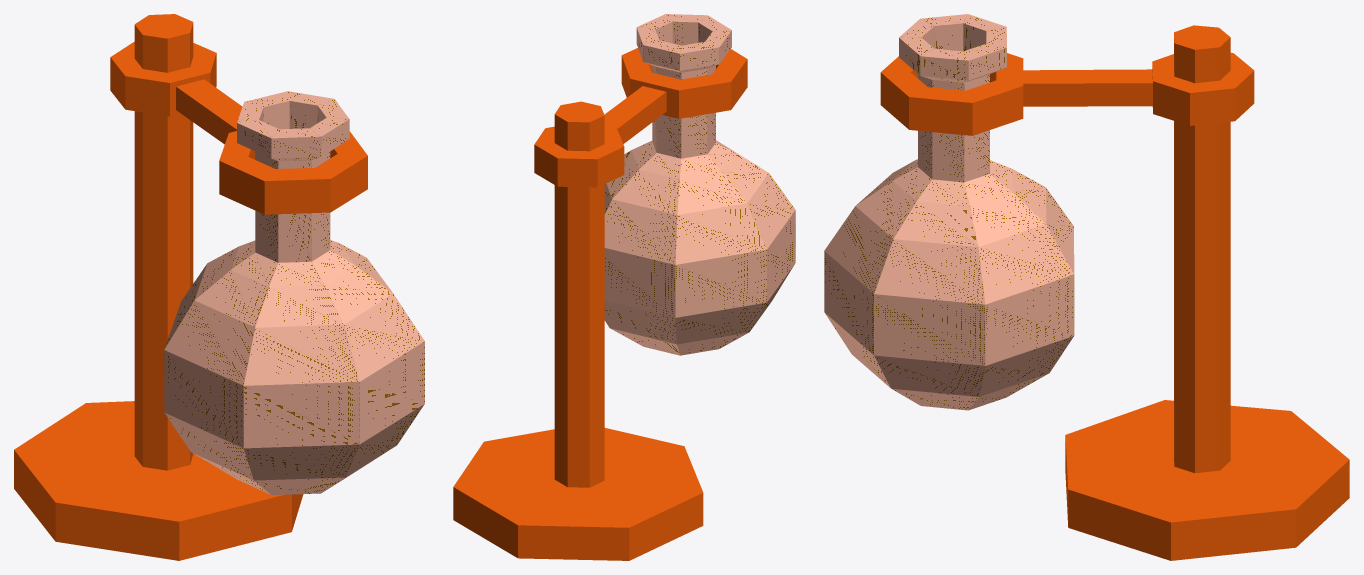
The model's file is Stander_Flask_RoundBottomed_1.fbx.
The picture shows the model from 3 angles, left to right: view 1: azimuth 30°, elevation 25°; view 2: azimuth 150°, elevation 25°; view 3: azimuth 270°, elevation 25°; orthographic projection. The views are drawn at different scales.
Parts seen in each view (by area): view 1: Stander_BigFlask; view 2: Stander_BigFlask; view 3: Stander_BigFlask.
Boxes of the visible parts, x1=… form: Stander_BigFlask: x1=14, y1=14, x2=424, y2=560; Stander_BigFlask: x1=453, y1=14, x2=795, y2=560; Stander_BigFlask: x1=824, y1=14, x2=1349, y2=560.
Size of the model in its own units: 38.99 by 68.67 by 70.61.
